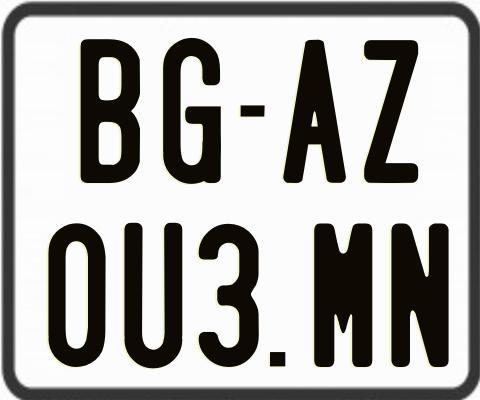0: (46, 222, 106, 371)
3: (196, 223, 262, 371)
A: (283, 39, 350, 187)
B: (79, 39, 142, 187)
G: (162, 37, 221, 189)
M: (314, 222, 376, 371)
N: (388, 220, 451, 367)
U: (123, 223, 185, 372)
Z: (361, 40, 415, 185)
